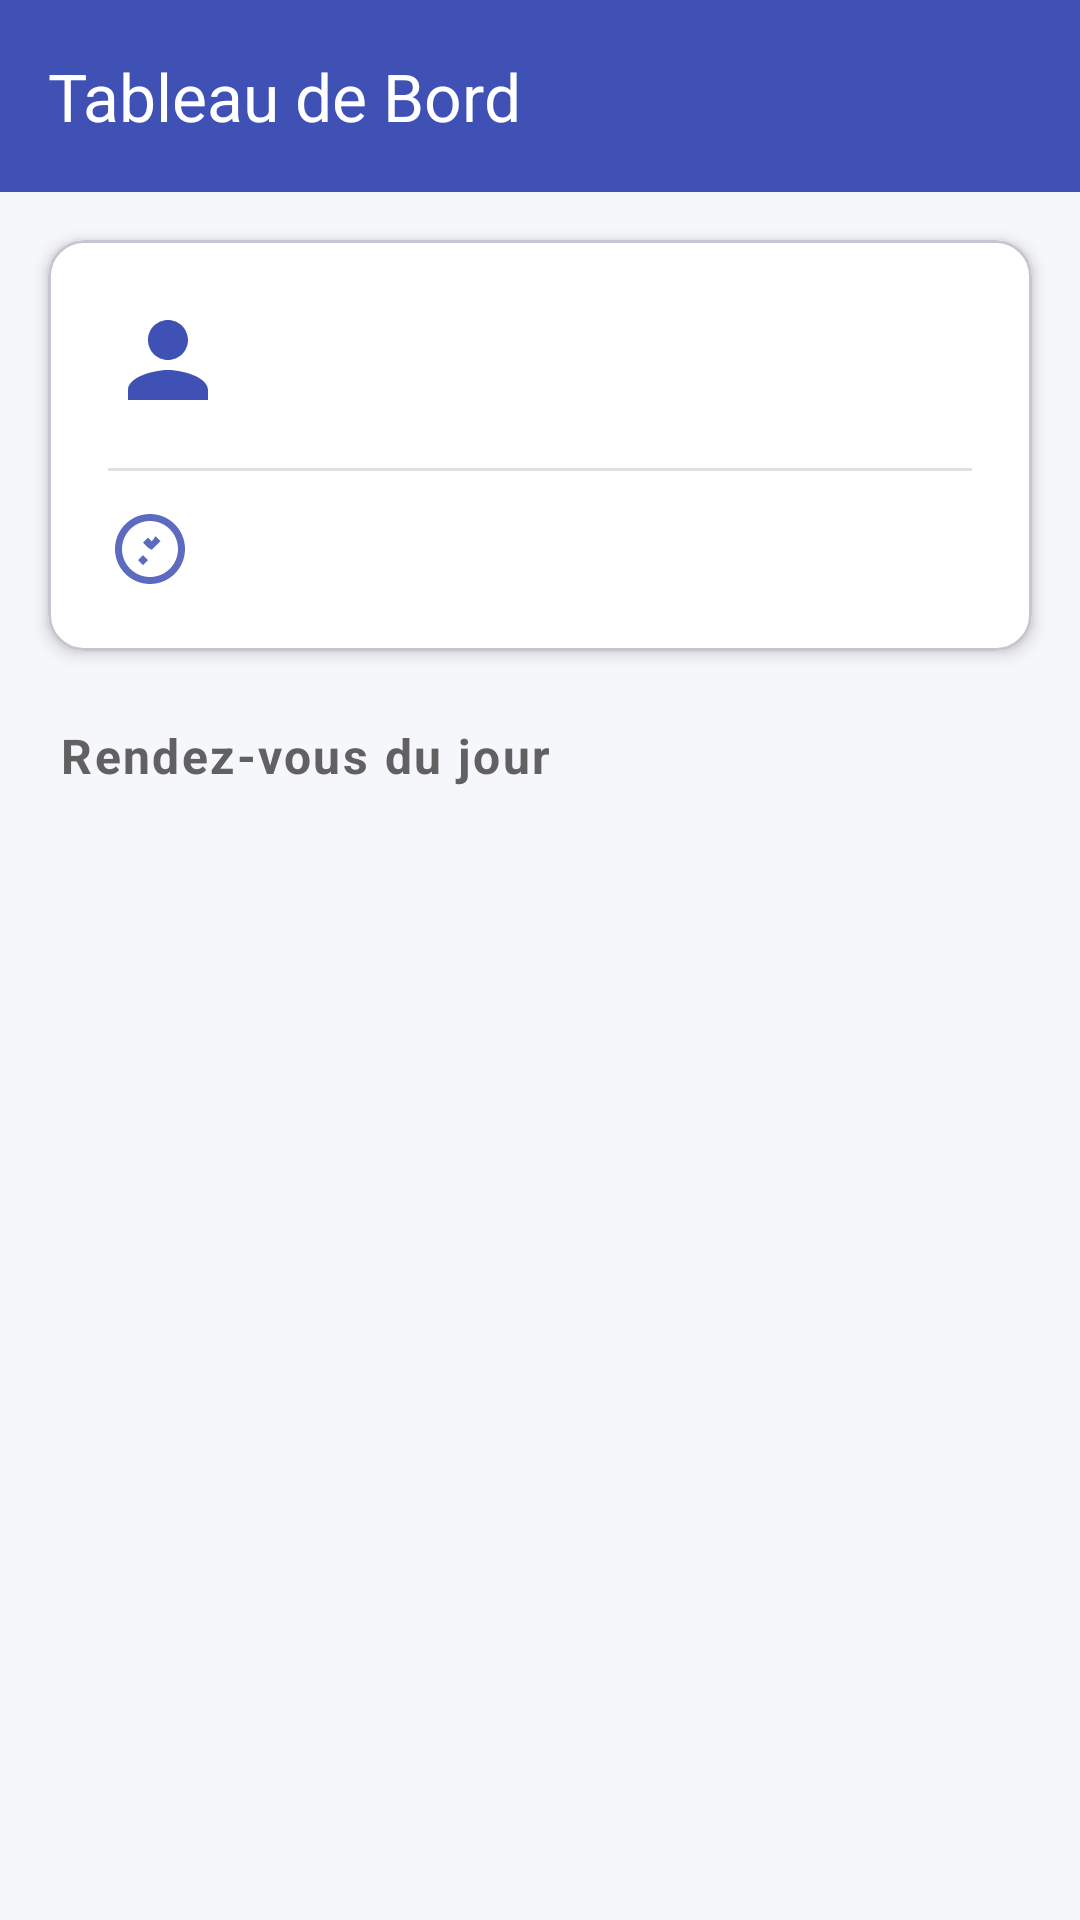

Named icons in this screenshot (1080w x 1920h) and their centers, (x=x, y=y):
Icône utilisateur: (x=168, y=360)
